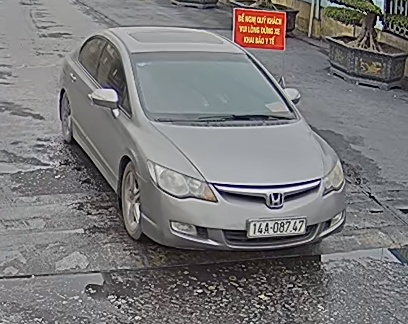vehicle plate: (244, 214, 310, 238)
